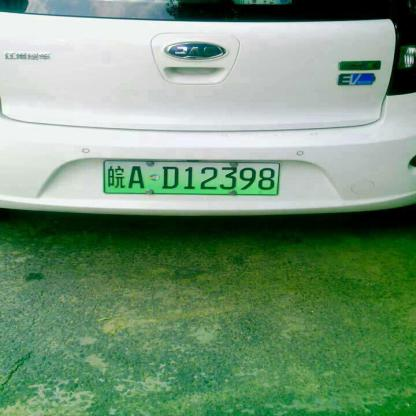lp: (104, 161, 278, 193)
